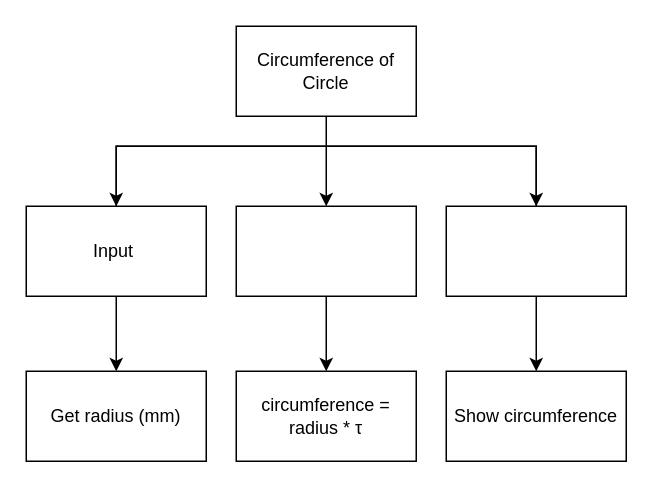
This 653x488 diagram has some shape labels left out. Each missing label, with the box of its shape:
Output: (445, 205, 626, 296)
Process: (235, 205, 416, 296)
